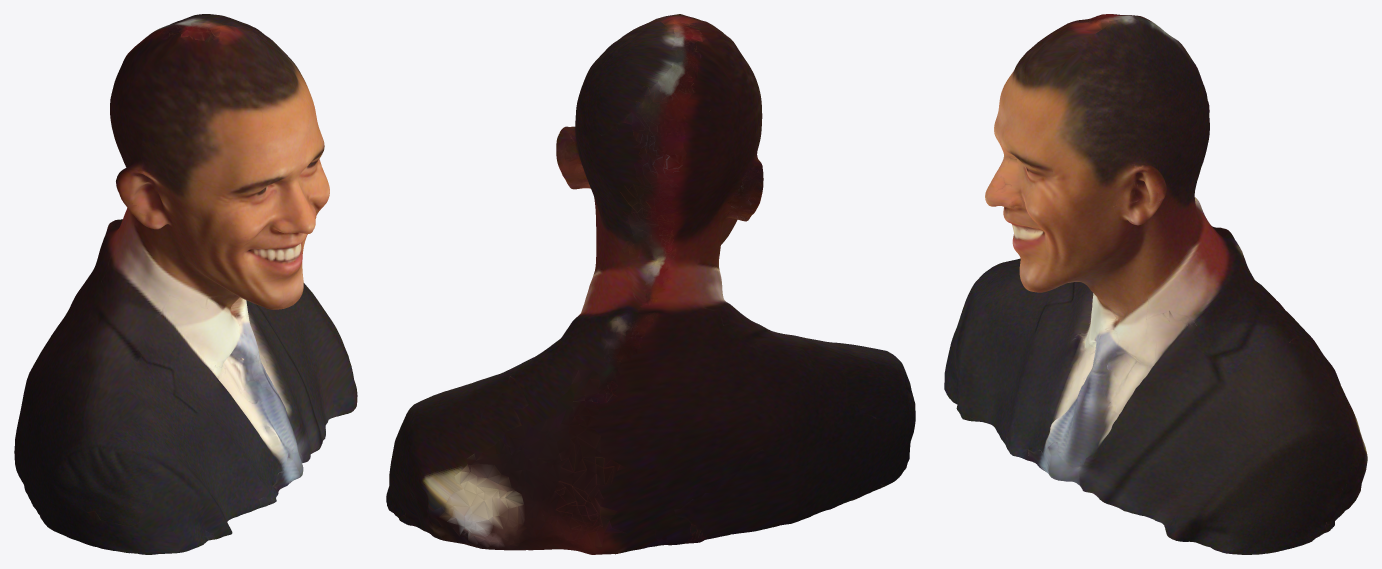
File: president_obama.glb
The picture shows the model from 3 angles, left to right: view 1: azimuth 30°, elevation 25°; view 2: azimuth 150°, elevation 25°; view 3: azimuth 270°, elevation 25°; orthographic projection. The views are drawn at different scales.
Visible parts, largest first — view 1: Object_2; view 2: Object_2; view 3: Object_2.
Boxes of the visible parts, bbox=[...] form: Object_2: bbox=[14, 14, 357, 554]; Object_2: bbox=[386, 14, 915, 554]; Object_2: bbox=[944, 14, 1367, 554].
Bounding box in the file's own units: 0.4247 × 0.4539 × 0.399.
Materials: 1 (1 with a texture image).
